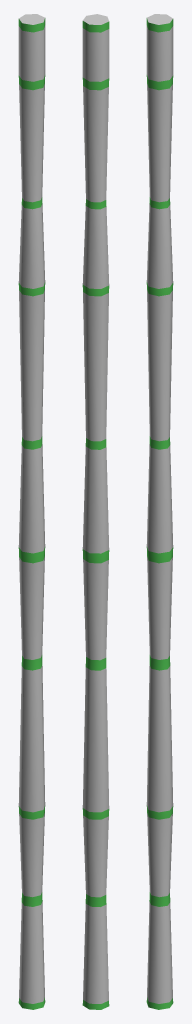
File: bamboo.fbx
The picture shows the model from 3 angles, left to right: view 1: azimuth 30°, elevation 25°; view 2: azimuth 150°, elevation 25°; view 3: azimuth 330°, elevation 25°; orthographic projection.
Visible parts, largest first — view 1: Circle; view 2: Circle; view 3: Circle.
Boxes of the visible parts, left/top/right/bottom form: Circle: left=18, top=14, right=45, bottom=1009; Circle: left=82, top=14, right=109, bottom=1009; Circle: left=146, top=14, right=173, bottom=1009.
Bounding box in the file's own units: 0.5728 × 23.46 × 0.5584.
